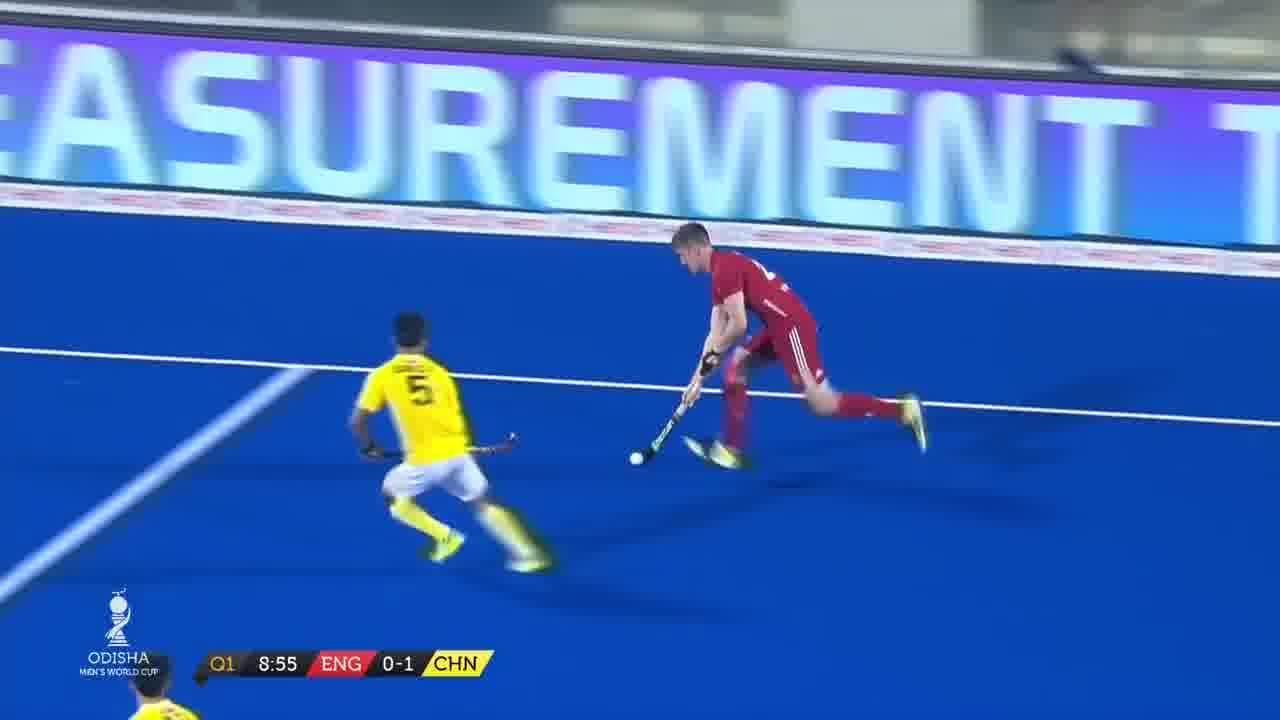ball: (620, 443, 650, 466)
